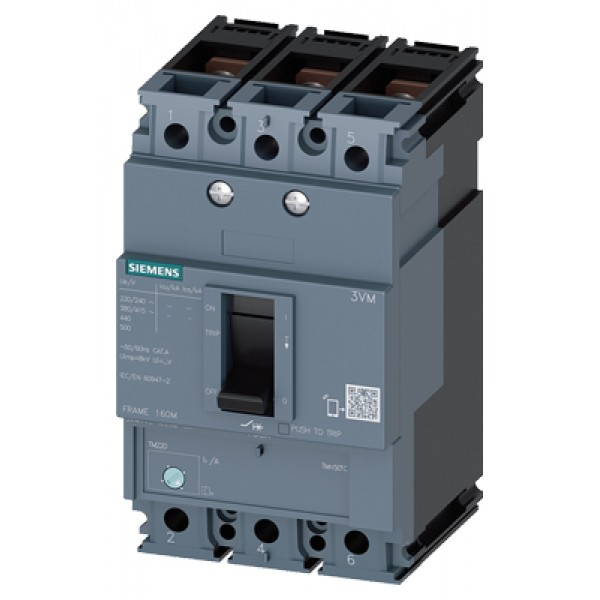BREACKER: (107, 13, 496, 591)
